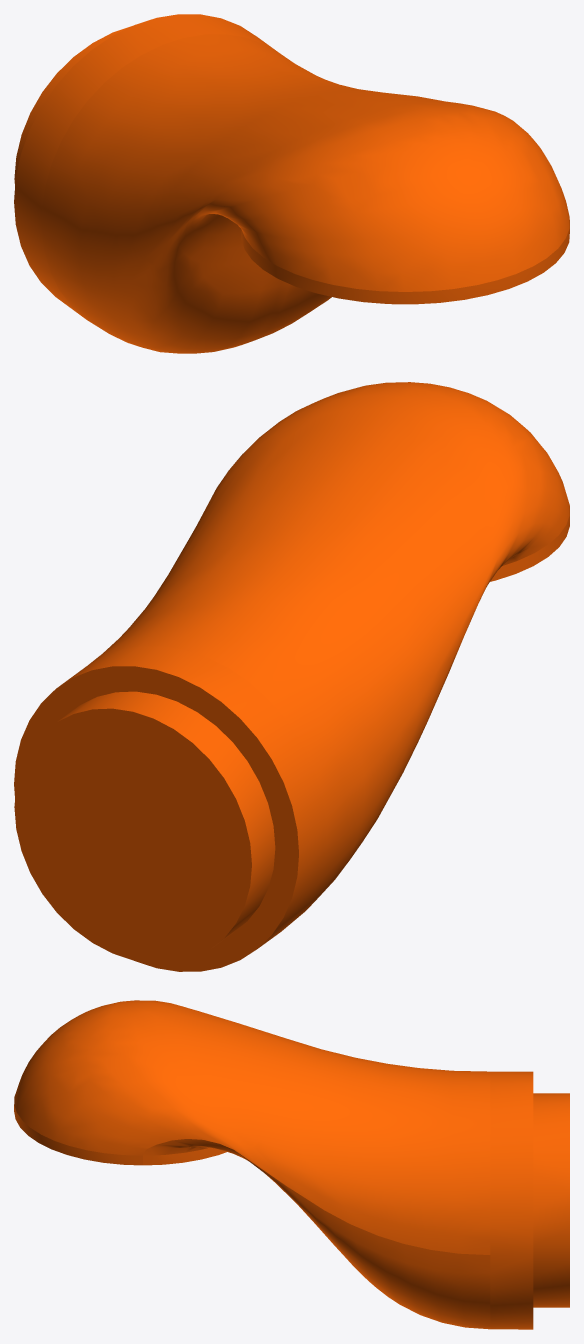
3 renders of one model, top to bottom at view 1: azimuth 30°, elevation 25°; view 2: azimuth 150°, elevation 25°; view 3: azimuth 270°, elevation 25°, orthographic. The views are drawn at different scales.
Parts seen in each view (by area): view 1: Node_0x295eec0; view 2: Node_0x295eec0; view 3: Node_0x295eec0.
Boxes of the visible parts, box(x1,y1,x2,y2) form: Node_0x295eec0: box(14, 14, 569, 353); Node_0x295eec0: box(14, 382, 569, 971); Node_0x295eec0: box(14, 1000, 569, 1329).
Bounding box in the file's own units: 120 × 154 × 258.
